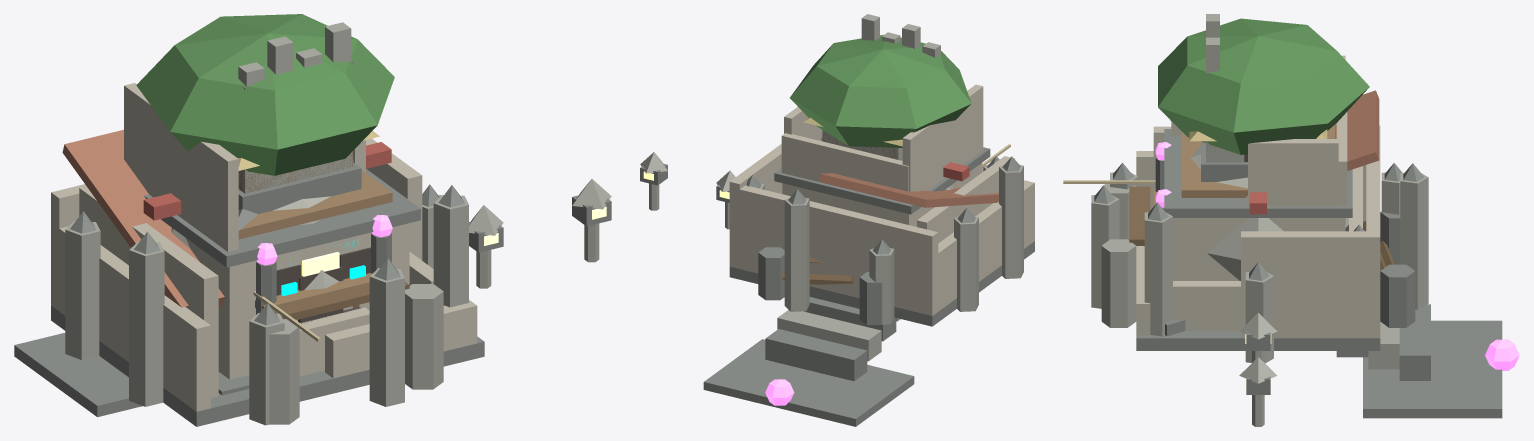
Rendered from jungle_village_kit.glb.
3 views of the same model, side by side, from view 1: azimuth 30°, elevation 25°; view 2: azimuth 150°, elevation 25°; view 3: azimuth 270°, elevation 25° (orthographic). The views are drawn at different scales.
Visible parts, largest first — view 1: village_treehouse, vil_ruin_house_c, ritual_stone_circle, vil_ruin_house_b, vil_ruin_house_a, ruin_collapsed_bridge, ruin_broken_tower, ruin_sunken_steps, ruin_lantern_row, grave_mausoleum, ritual_skull_rock, ruin_torii_gate; view 2: vil_ruin_house_b, ruin_sunken_steps, village_treehouse, vil_ruin_house_c, ritual_stone_circle, vil_ruin_house_a, ruin_collapsed_bridge, ruin_broken_tower, ruin_lantern_row, ruin_torii_gate; view 3: village_treehouse, vil_ruin_house_b, vil_ruin_house_c, ruin_sunken_steps, ritual_stone_circle, ruin_collapsed_bridge, vil_ruin_house_a, ruin_lantern_row, ruin_broken_tower, ritual_skull_rock, grave_mausoleum.
Part boxes in pixels (bbox=[...]): village_treehouse: bbox=[136, 14, 394, 239]; vil_ruin_house_c: bbox=[124, 83, 420, 379]; ritual_stone_circle: bbox=[65, 184, 468, 425]; vil_ruin_house_b: bbox=[51, 138, 484, 426]; vil_ruin_house_a: bbox=[62, 129, 433, 397]; ruin_collapsed_bridge: bbox=[253, 273, 443, 424]; ruin_broken_tower: bbox=[238, 22, 361, 214]; ruin_sunken_steps: bbox=[14, 333, 142, 417]; ruin_lantern_row: bbox=[469, 179, 611, 288]; grave_mausoleum: bbox=[218, 215, 392, 395]; ritual_skull_rock: bbox=[171, 196, 370, 323]; ruin_torii_gate: bbox=[143, 142, 391, 238]; vil_ruin_house_b: bbox=[729, 144, 1034, 326]; ruin_sunken_steps: bbox=[703, 297, 914, 426]; village_treehouse: bbox=[790, 34, 971, 159]; vil_ruin_house_c: bbox=[774, 84, 990, 226]; ritual_stone_circle: bbox=[746, 156, 1023, 324]; vil_ruin_house_a: bbox=[819, 156, 1014, 243]; ruin_collapsed_bridge: bbox=[758, 144, 1010, 324]; ruin_broken_tower: bbox=[821, 14, 942, 160]; ruin_lantern_row: bbox=[640, 152, 735, 229]; ruin_torii_gate: bbox=[781, 137, 969, 181]; village_treehouse: bbox=[1158, 18, 1369, 197]; vil_ruin_house_b: bbox=[1136, 125, 1380, 350]; vil_ruin_house_c: bbox=[1164, 55, 1352, 280]; ruin_sunken_steps: bbox=[1336, 304, 1519, 418]; ritual_stone_circle: bbox=[1091, 163, 1428, 363]; ruin_collapsed_bridge: bbox=[1063, 180, 1415, 327]; vil_ruin_house_a: bbox=[1153, 90, 1379, 330]; ruin_lantern_row: bbox=[1239, 312, 1277, 426]; ruin_broken_tower: bbox=[1201, 14, 1247, 181]; ritual_skull_rock: bbox=[1190, 146, 1348, 280]; grave_mausoleum: bbox=[1155, 142, 1171, 209].
Size of the model in its own units: 14.21 by 11.1 by 13.1.
